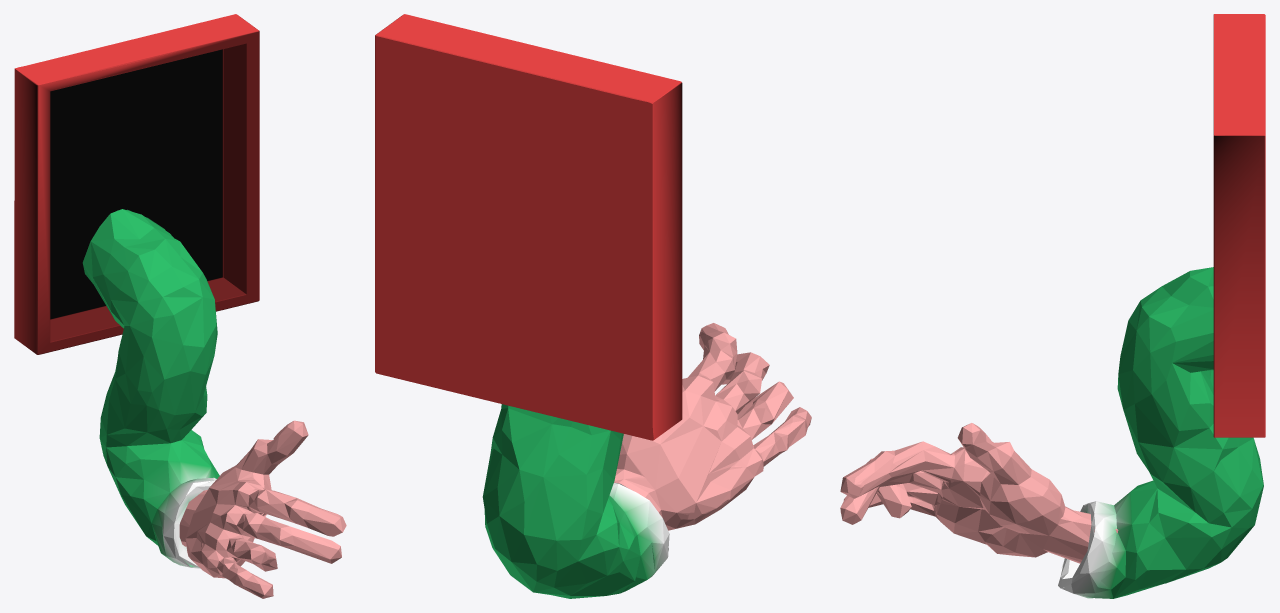
3 views of the same model, side by side, from view 1: azimuth 30°, elevation 25°; view 2: azimuth 150°, elevation 25°; view 3: azimuth 270°, elevation 25° (orthographic). The views are drawn at different scales.
Parts seen in each view (by area): view 1: Hand; view 2: Hand; view 3: Hand.
Boxes of the visible parts, <box> form: Hand: <box>14,14,346,598</box>; Hand: <box>375,14,811,598</box>; Hand: <box>840,14,1265,598</box>.
Bounding box in the file's own units: 1.5 × 2.99 × 2.22.
